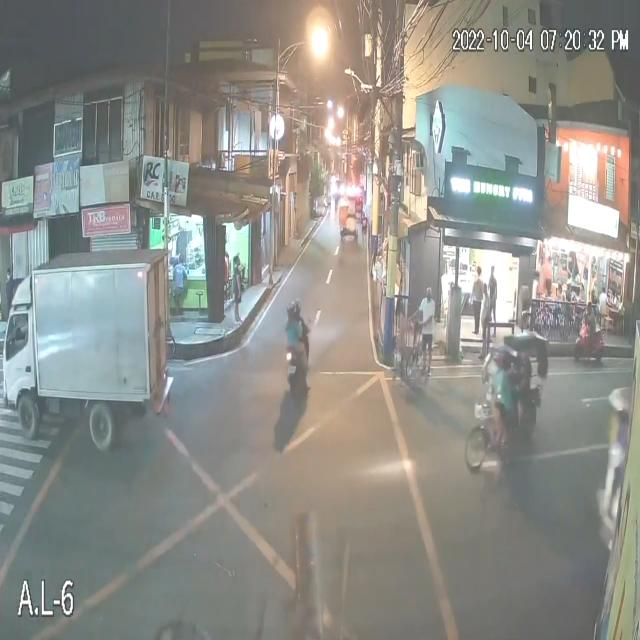Full-Faced: (285, 298, 296, 316), (294, 295, 304, 313)
